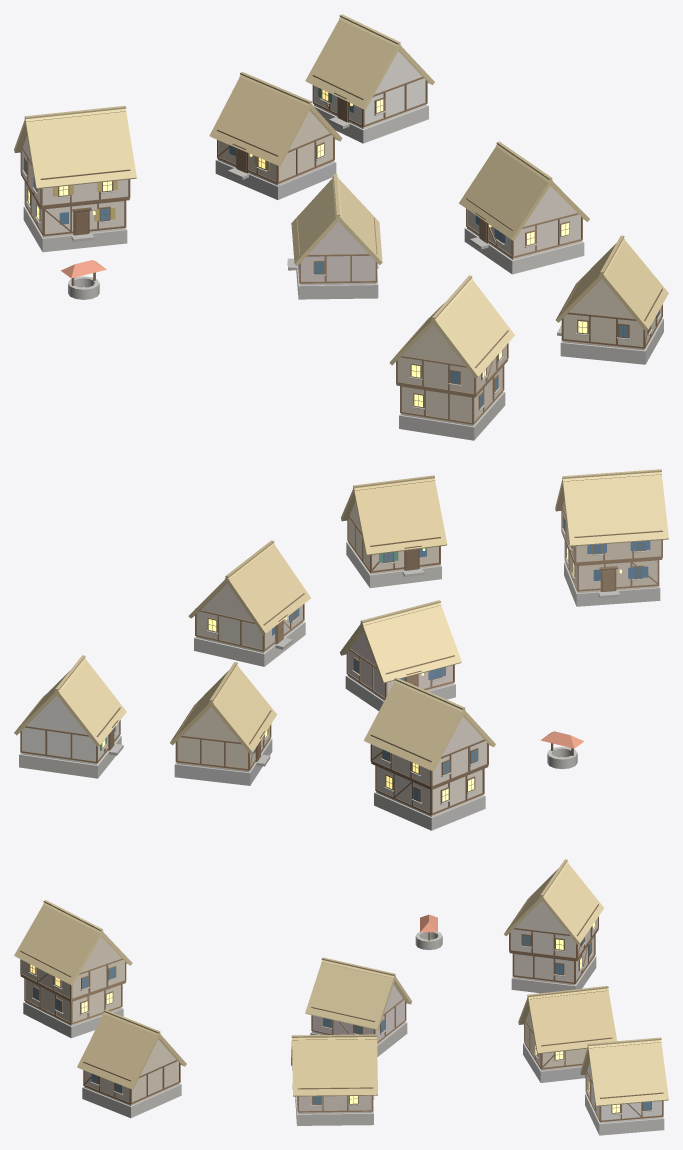
Rendered from struct_13_8.glb.
The picture shows the model from 3 angles, top to bottom: view 1: azimuth 30°, elevation 25°; view 2: azimuth 150°, elevation 25°; view 3: azimuth 270°, elevation 25°; orthographic projection. The views are drawn at different scales.
Parts seen in each view (by area): view 1: HousesNear, Landmarks; view 2: HousesNear, Landmarks; view 3: HousesNear, Landmarks.
Boxes of the visible parts, left/top/right/bottom form: HousesNear: left=14, top=14, right=668, bottom=440; Landmarks: left=61, top=260, right=106, bottom=299; HousesNear: left=14, top=469, right=668, bottom=830; Landmarks: left=540, top=731, right=583, bottom=769; HousesNear: left=14, top=859, right=668, bottom=1135; Landmarks: left=415, top=914, right=442, bottom=949.
Bounding box in the file's own units: 45.69 × 11.24 × 65.49.
